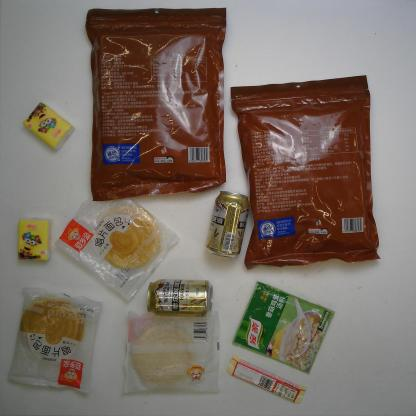Alcohol: (203, 189, 252, 261), (144, 276, 214, 318)
Chocolate: (226, 352, 308, 405)
Dessert: (52, 192, 182, 303), (6, 285, 104, 396), (119, 308, 222, 398)
Dried Food: (228, 72, 384, 272), (82, 5, 228, 203)
Seasoner: (229, 278, 337, 376)
Tissue: (19, 100, 77, 156), (13, 214, 55, 263)
